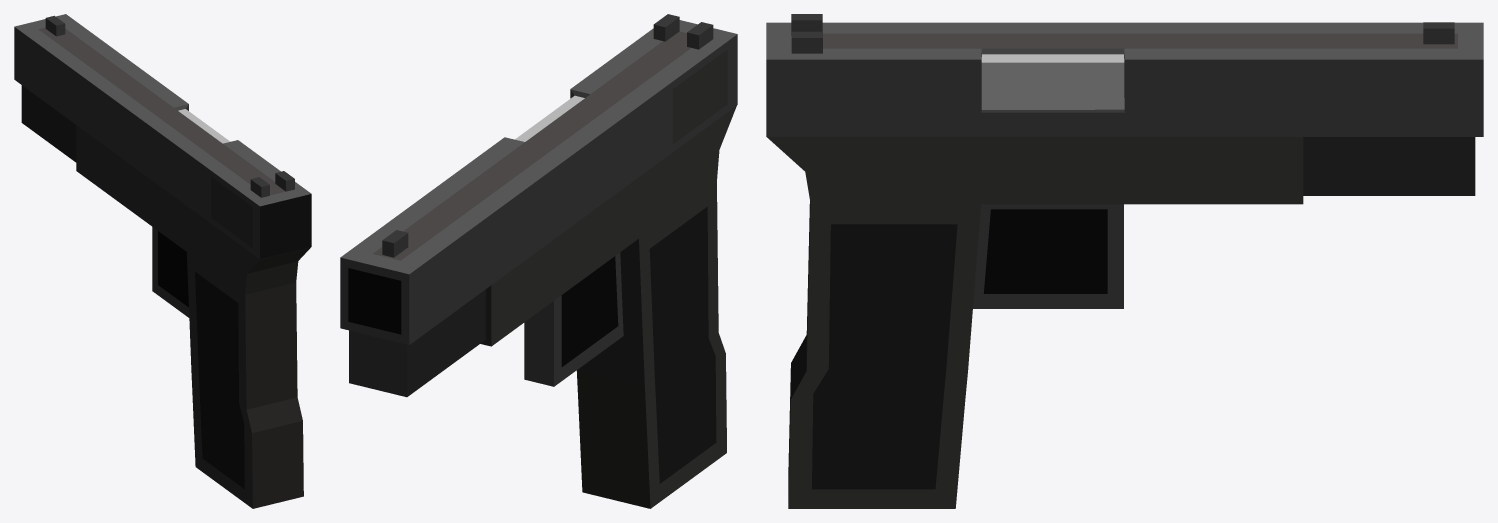
Rendered from Wep_Pistol.fbx.
The picture shows the model from 3 angles, left to right: view 1: azimuth 30°, elevation 25°; view 2: azimuth 150°, elevation 25°; view 3: azimuth 270°, elevation 25°; orthographic projection. The views are drawn at different scales.
Parts seen in each view (by area): view 1: Wep_Pistol; view 2: Wep_Pistol; view 3: Wep_Pistol.
Boxes of the visible parts, left/top/right/bottom form: Wep_Pistol: left=14, top=14, right=311, bottom=508; Wep_Pistol: left=340, top=14, right=737, bottom=508; Wep_Pistol: left=766, top=14, right=1483, bottom=508.
Size of the model in its own units: 12.17 by 71.7 by 100.
